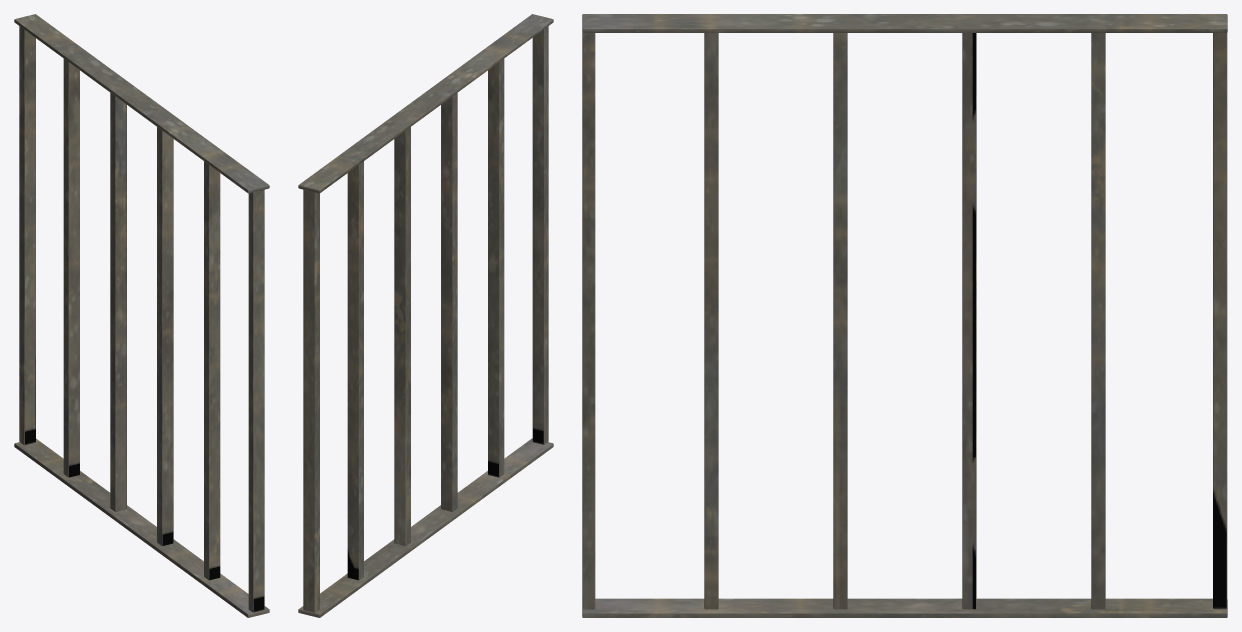
File: SM_Brutalist_Fence_01_B_LOD0.glb
3 renders of one model, left to right at view 1: azimuth 30°, elevation 25°; view 2: azimuth 150°, elevation 25°; view 3: azimuth 270°, elevation 25°, orthographic. The views are drawn at different scales.
Parts seen in each view (by area): view 1: SM_Brutalist_Fence_01_B_LOD0; view 2: SM_Brutalist_Fence_01_B_LOD0; view 3: SM_Brutalist_Fence_01_B_LOD0.
Part boxes in pixels (x1,y1,x2,y2): SM_Brutalist_Fence_01_B_LOD0: [14, 14, 269, 617]; SM_Brutalist_Fence_01_B_LOD0: [298, 14, 553, 617]; SM_Brutalist_Fence_01_B_LOD0: [582, 14, 1227, 617].
Size of the model in its own units: 0.0536 by 1.01 by 1.
Materials: 1 (1 with a texture image).
